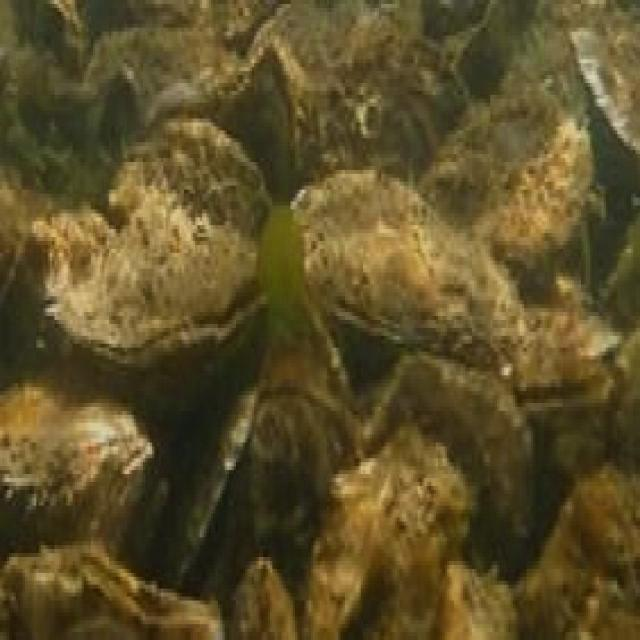Oyster-Closed: (50, 122, 270, 369), (289, 171, 529, 365), (358, 352, 539, 574), (422, 79, 598, 265), (314, 41, 473, 207), (0, 381, 150, 550), (252, 0, 424, 137), (235, 383, 364, 554), (512, 466, 639, 639), (0, 547, 227, 639), (0, 180, 117, 340), (561, 0, 639, 147), (505, 1, 589, 121), (251, 49, 313, 192), (505, 303, 623, 378), (442, 1, 521, 87), (442, 566, 517, 639), (610, 331, 639, 458)
Oyster-Open: (298, 436, 477, 639), (157, 394, 257, 593), (507, 354, 612, 433), (231, 564, 297, 639)
